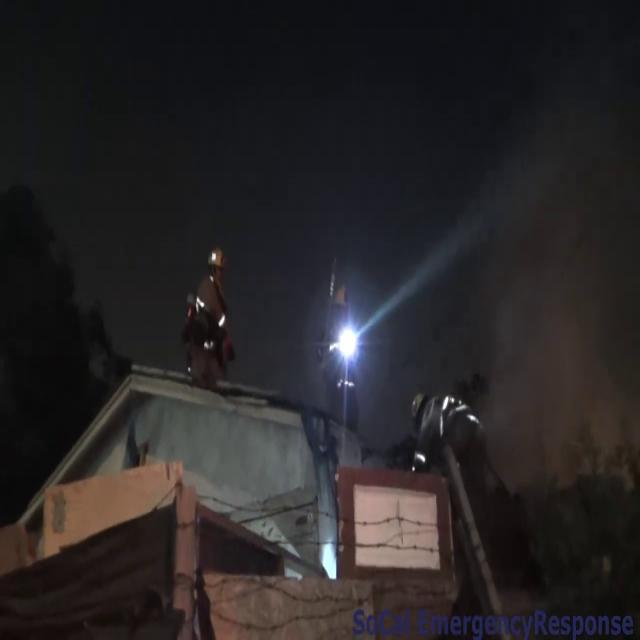Smoke: (473, 6, 640, 493)
